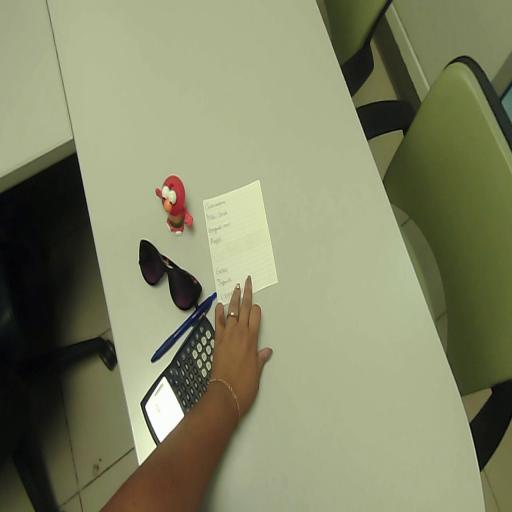pen: (151, 292, 216, 362)
